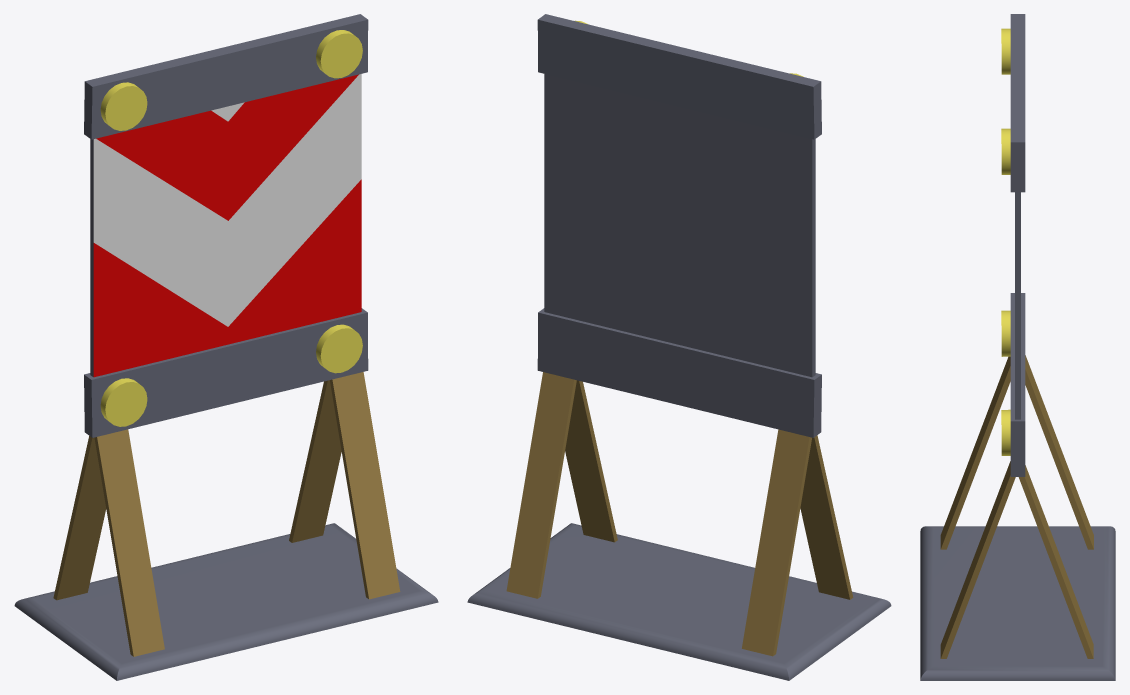
Rendered from slidesign.fbx.
3 renders of one model, left to right at view 1: azimuth 30°, elevation 25°; view 2: azimuth 150°, elevation 25°; view 3: azimuth 270°, elevation 25°, orthographic. The views are drawn at different scales.
Visible parts, largest first — view 1: slide_sign; view 2: slide_sign; view 3: slide_sign.
Boxes of the visible parts, box(x1,y1,x2,y2) form: slide_sign: box(14, 14, 438, 680); slide_sign: box(467, 14, 891, 680); slide_sign: box(920, 14, 1115, 680).
Bounding box in the file's own units: 4.36 × 7.17 × 2.4.
